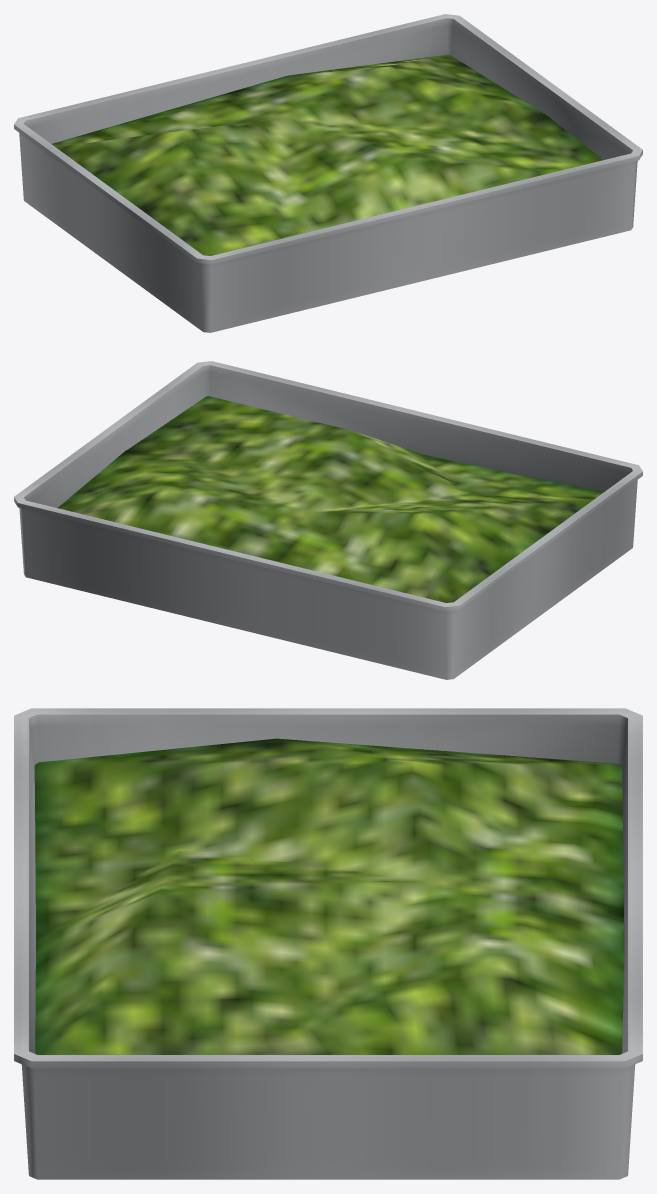
Rendered from jsf_Ingredient_Leek_02.fbx.
The picture shows the model from 3 angles, top to bottom: view 1: azimuth 30°, elevation 25°; view 2: azimuth 150°, elevation 25°; view 3: azimuth 270°, elevation 25°; orthographic projection. The views are drawn at different scales.
Parts seen in each view (by area): view 1: jsf_Ingredient_Leek_02; view 2: jsf_Ingredient_Leek_02; view 3: jsf_Ingredient_Leek_02.
Boxes of the visible parts, <box> form: jsf_Ingredient_Leek_02: <box>14,14,642,332</box>; jsf_Ingredient_Leek_02: <box>14,361,642,679</box>; jsf_Ingredient_Leek_02: <box>14,708,642,1179</box>.
Size of the model in its own units: 23.93 by 4.81 by 18.03.
